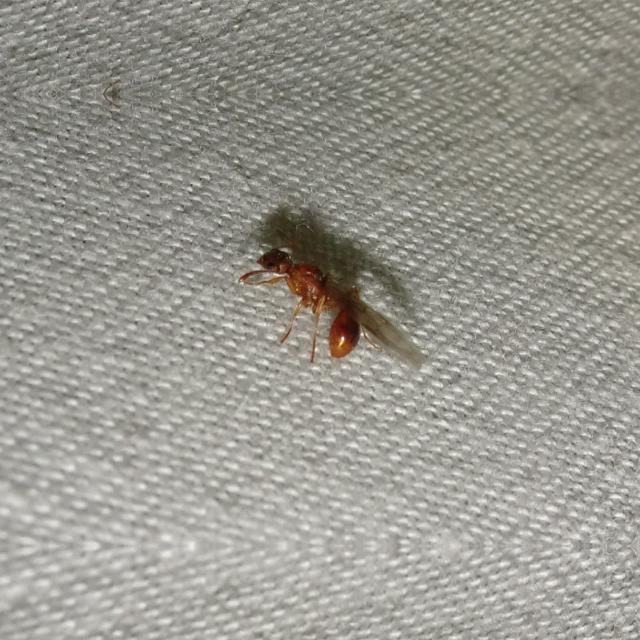Myrmica: (233, 218, 421, 388)
